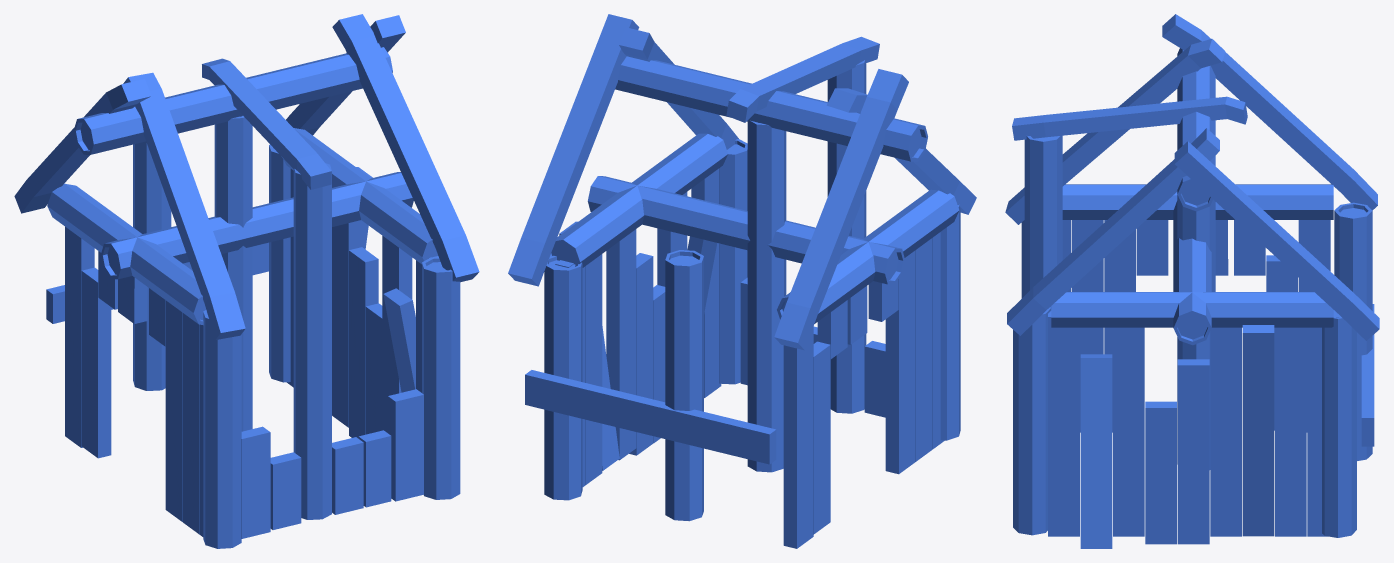
File: Building_Abandoned_Variant1.fbx
The picture shows the model from 3 angles, left to right: view 1: azimuth 30°, elevation 25°; view 2: azimuth 150°, elevation 25°; view 3: azimuth 270°, elevation 25°; orthographic projection. The views are drawn at different scales.
Visible parts, largest first — view 1: Building_Abandoned_Variant1; view 2: Building_Abandoned_Variant1; view 3: Building_Abandoned_Variant1.
Part boxes in pixels (<box>): Building_Abandoned_Variant1: <box>14,14,479,548</box>; Building_Abandoned_Variant1: <box>508,14,976,548</box>; Building_Abandoned_Variant1: <box>1005,14,1379,548</box>.
Bounding box in the file's own units: 293 × 372 × 309.
